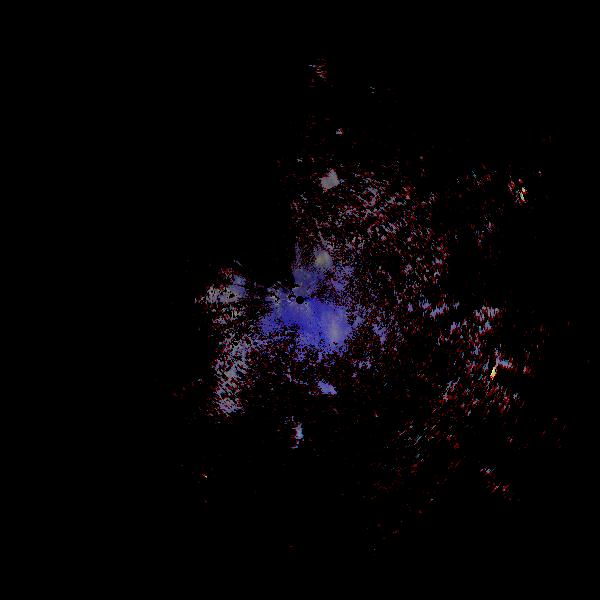roost: (269, 415, 308, 454)
